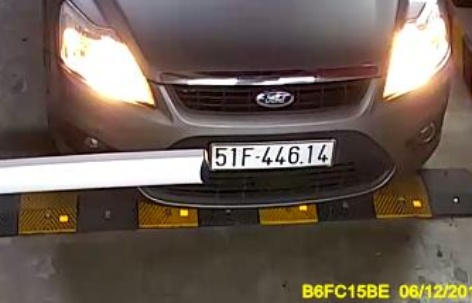plate: (210, 136, 339, 174)
